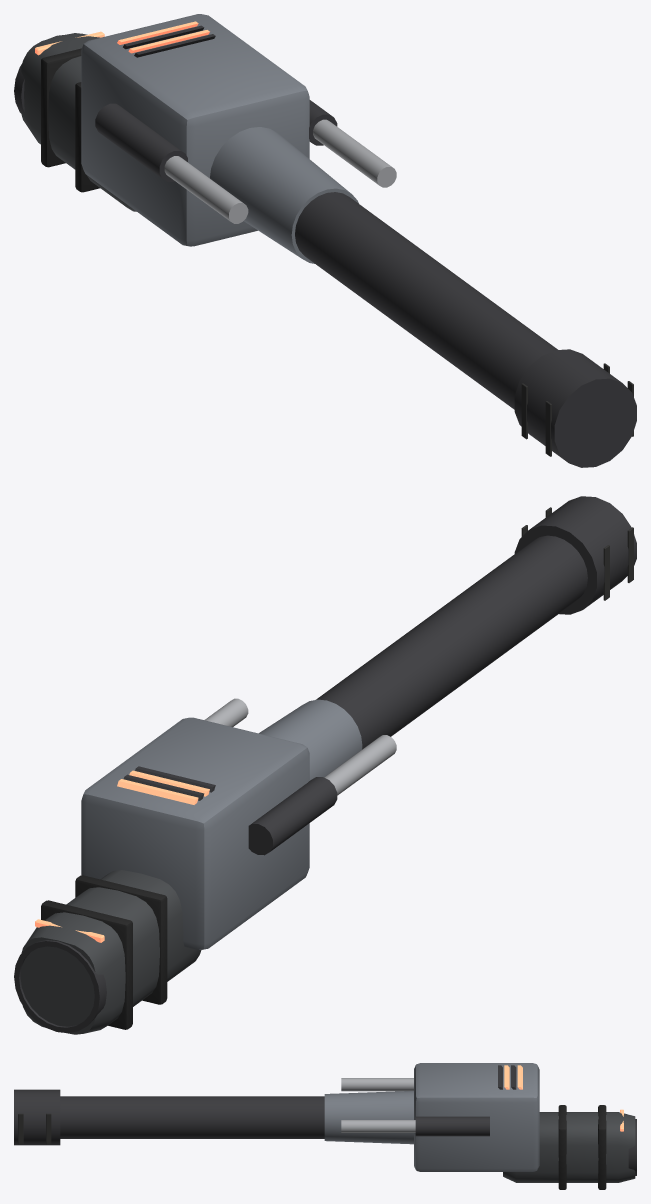
The model's file is gallic.glb.
The picture shows the model from 3 angles, top to bottom: view 1: azimuth 30°, elevation 25°; view 2: azimuth 150°, elevation 25°; view 3: azimuth 270°, elevation 25°; orthographic projection. The views are drawn at different scales.
Visible parts, largest first — view 1: Body; view 2: Body; view 3: Body.
Boxes of the visible parts, x1,y1,x2,y2 form: Body: (14, 14, 636, 467); Body: (14, 496, 636, 1034); Body: (14, 1063, 636, 1189).
Size of the model in its own units: 0.3585 by 0.341 by 1.89.
